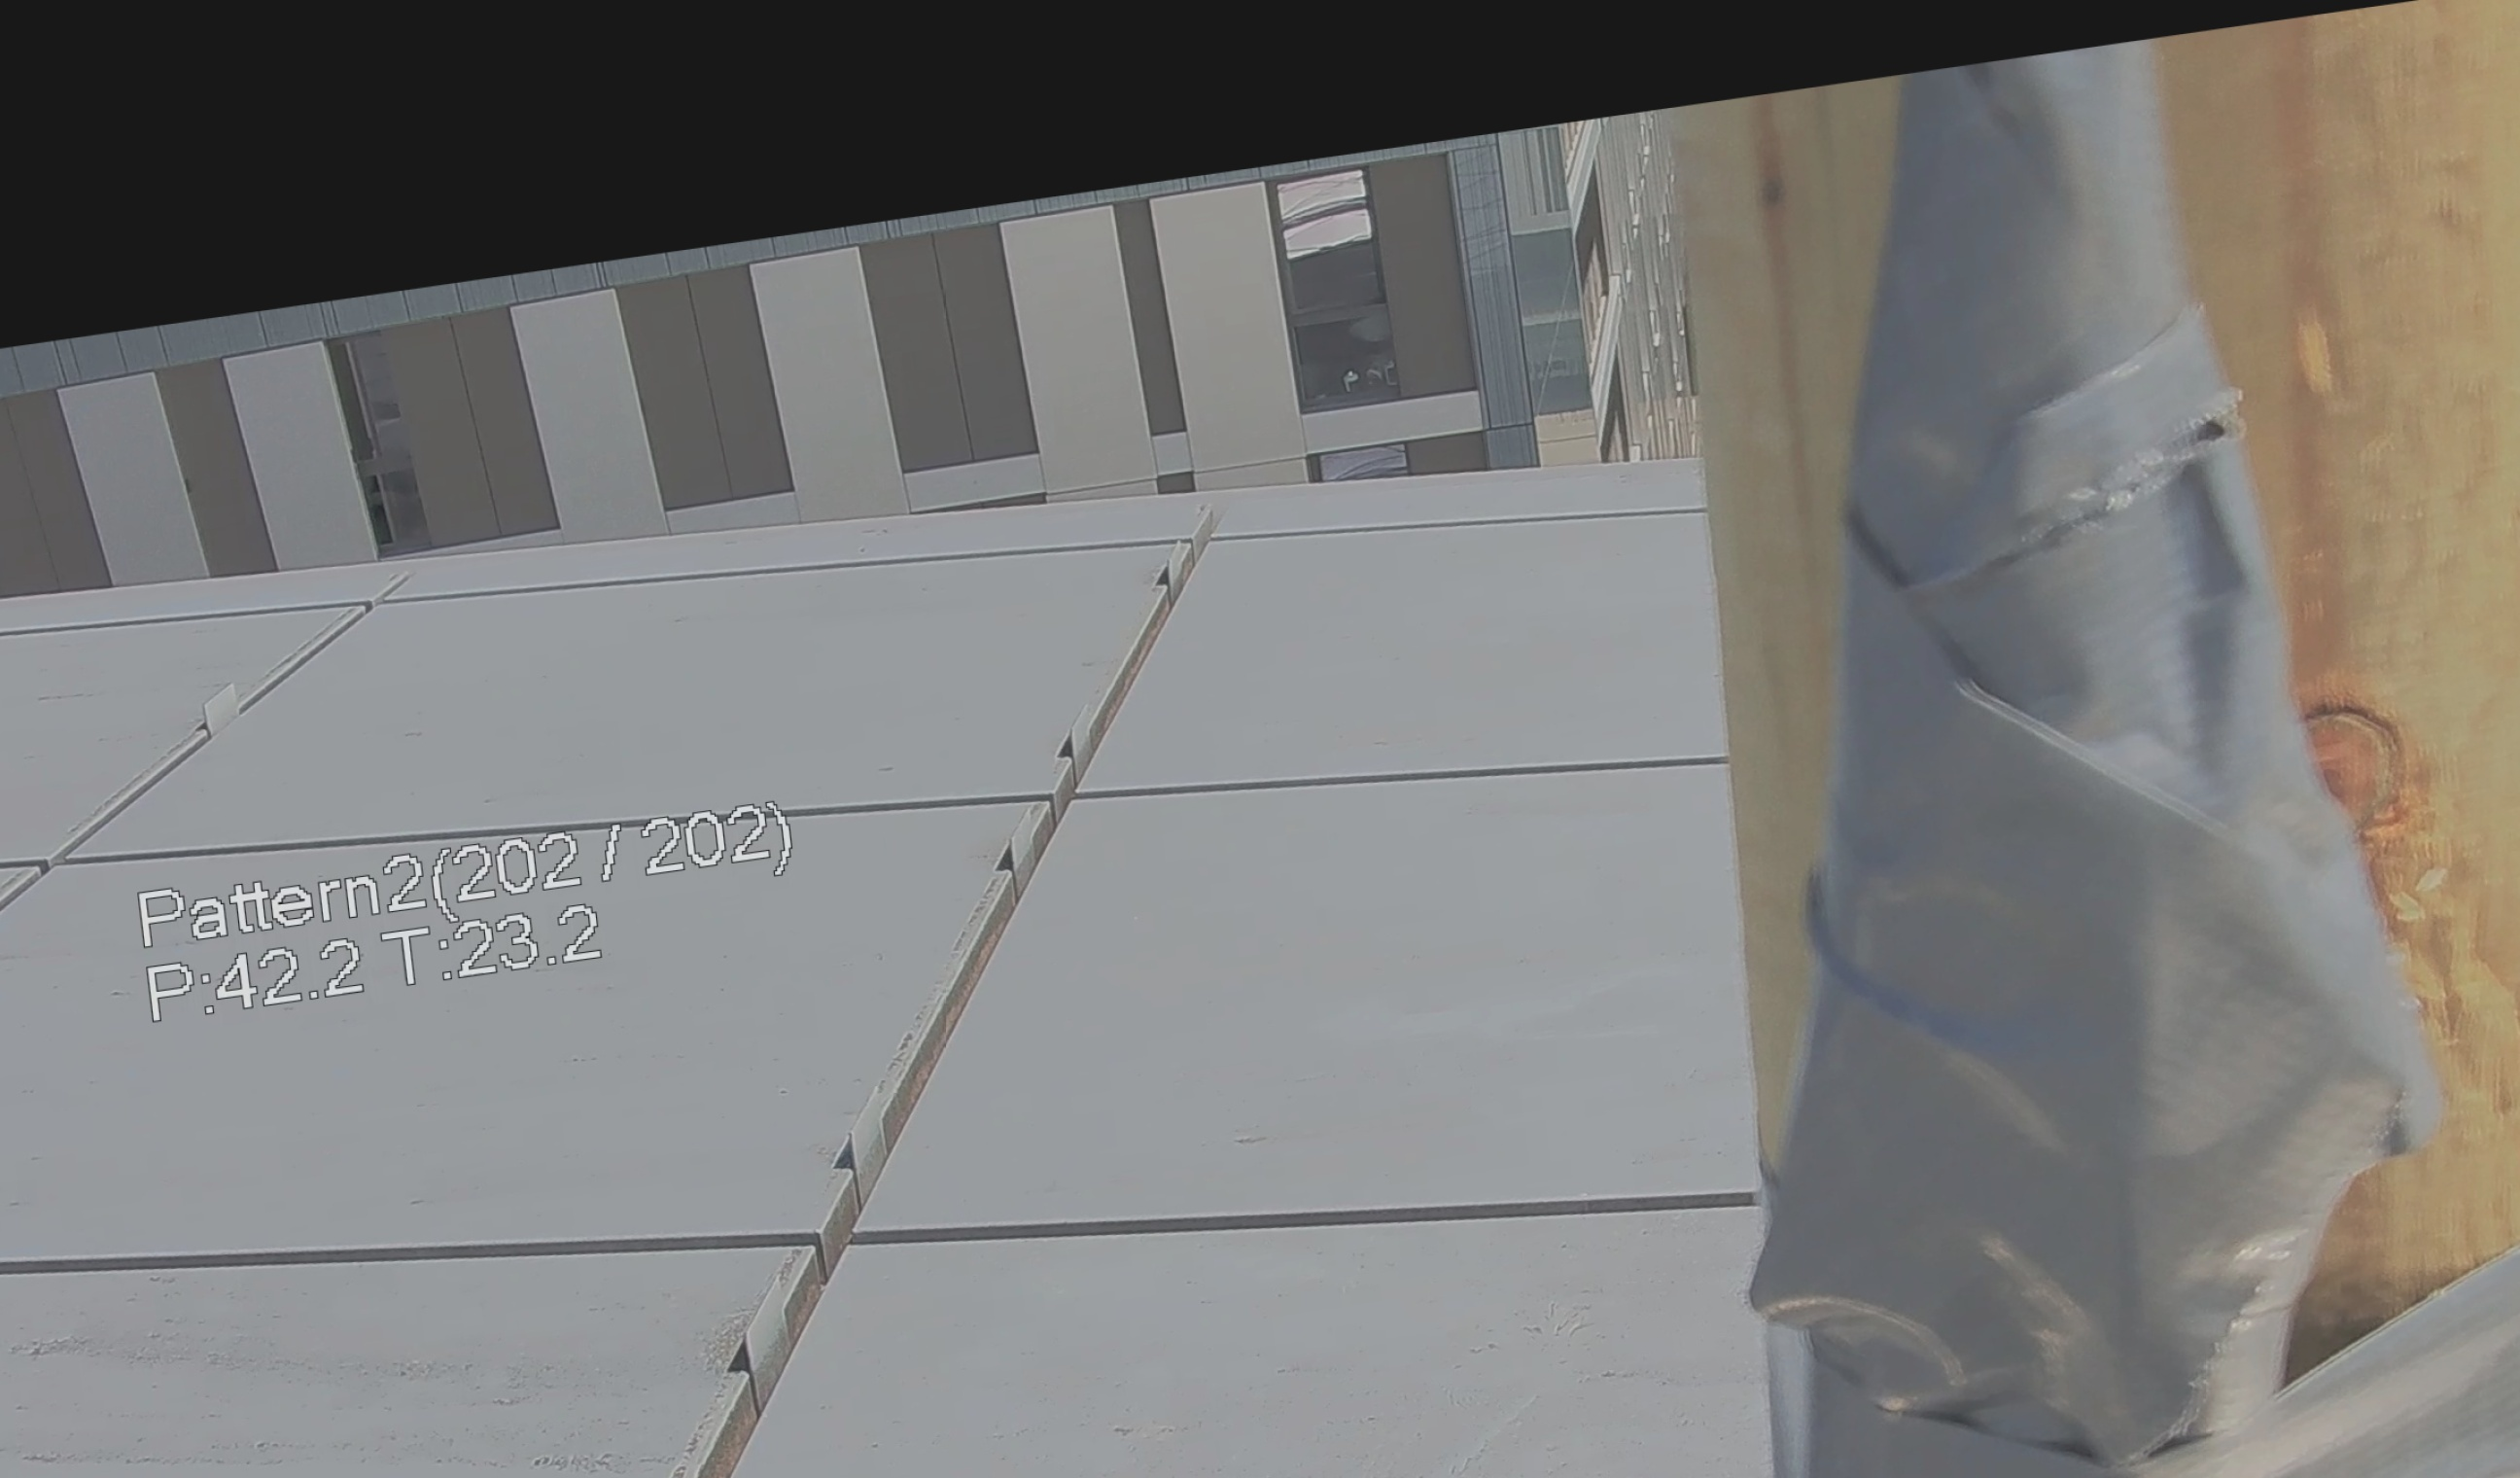Other: (1623, 11, 2520, 1478)
